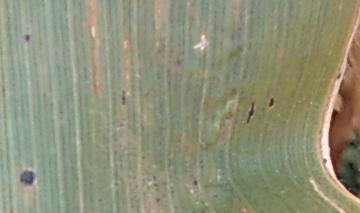tarspot: (18, 168, 35, 187), (246, 101, 255, 124), (120, 88, 126, 106), (267, 96, 274, 109), (22, 33, 31, 43), (174, 57, 181, 67), (335, 71, 341, 82), (192, 177, 198, 187), (154, 197, 162, 204), (151, 173, 157, 182), (212, 192, 219, 199), (151, 182, 159, 188), (321, 157, 327, 163), (198, 209, 205, 213)
